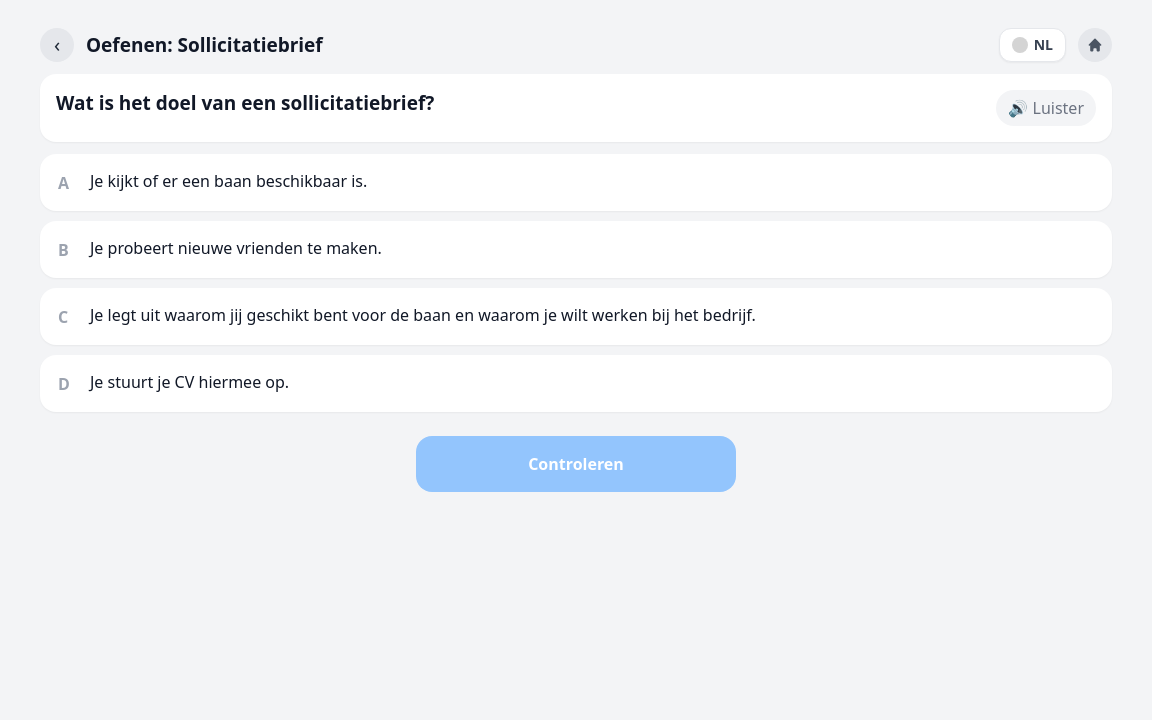
Test: selecting correct answer (C) shows positive feedback
The width and height of the screenshot is (1152, 720).
Click the text "Je legt uit waarom jij geschikt bent" at (423, 315), box [90,304,756,326]
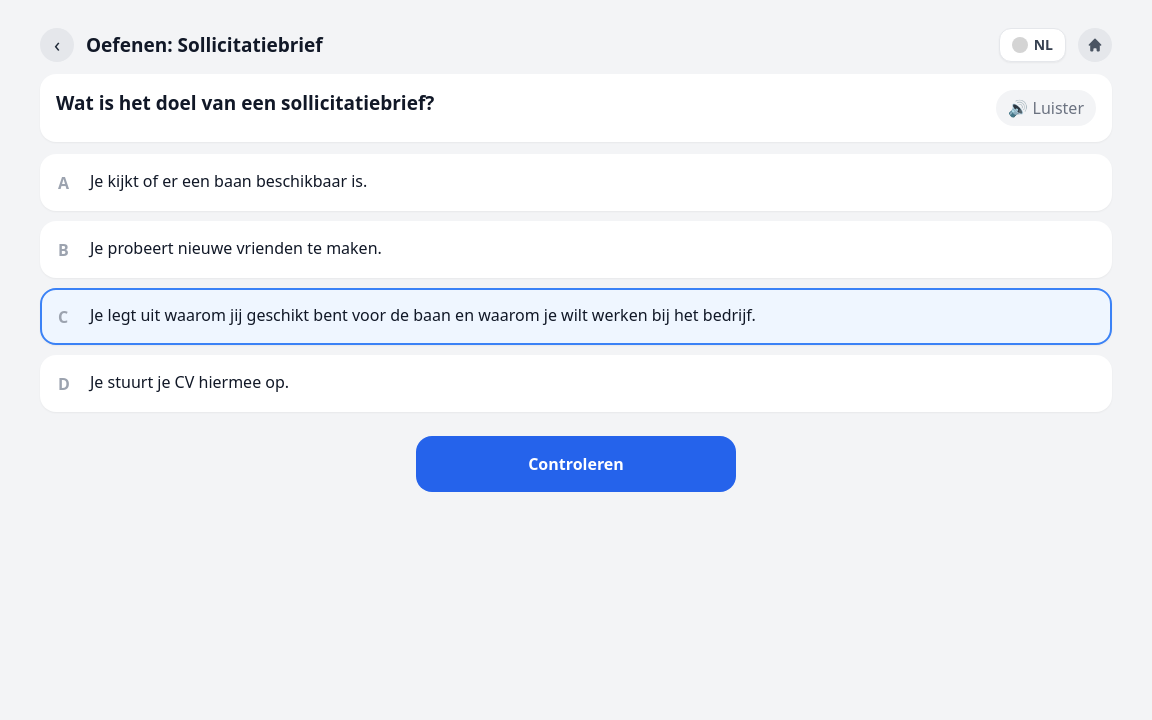
Click the button "Controleren" at (576, 464), box [416,436,736,492]
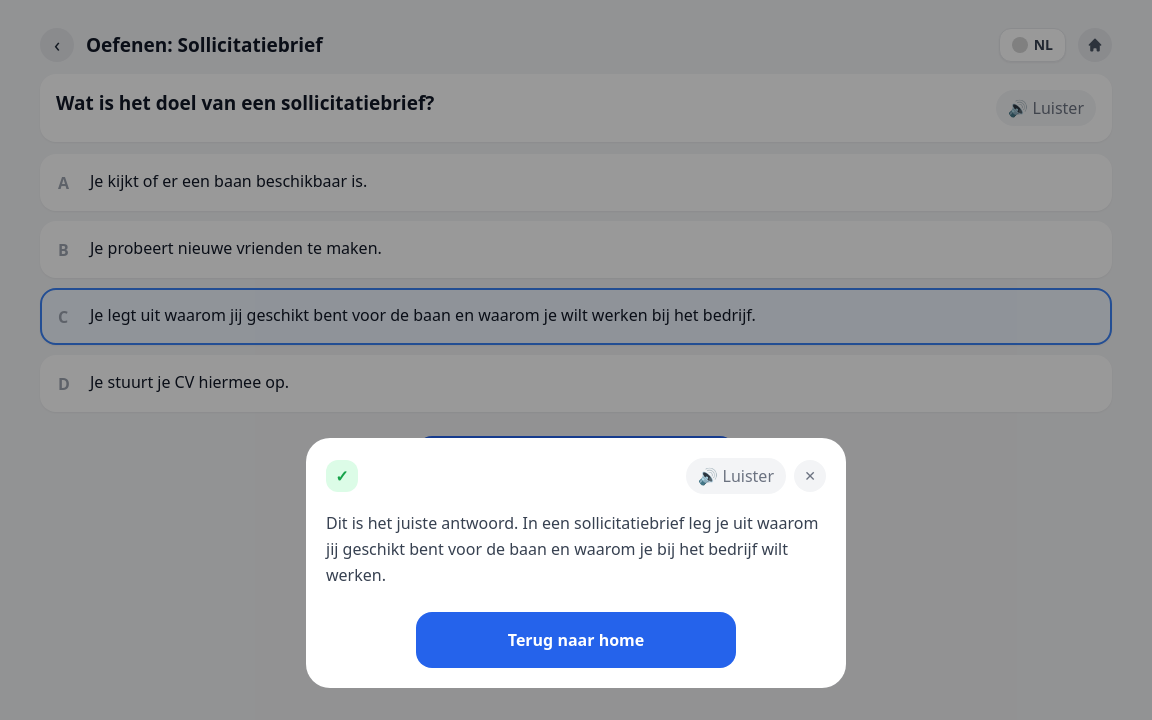
Check: the text "✓" is shown, box [326,460,358,492]
Check: the text "Dit is het juiste antwoord" is shown, box [326,512,818,586]
